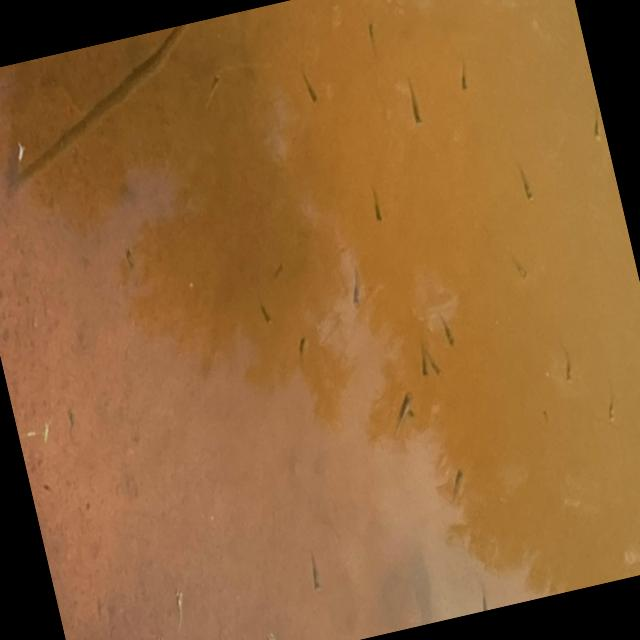Sivrisinek Baligi: (373, 389, 428, 446), (106, 236, 154, 282), (158, 582, 199, 630), (354, 13, 389, 68), (578, 81, 608, 145), (296, 545, 331, 598), (440, 452, 472, 508), (448, 48, 479, 98), (360, 177, 390, 225), (293, 59, 322, 108), (511, 156, 538, 207), (401, 72, 426, 127), (598, 383, 626, 428), (198, 66, 226, 108), (433, 310, 460, 352), (267, 248, 292, 285), (344, 264, 366, 306), (508, 246, 532, 284), (256, 622, 306, 640), (291, 333, 316, 366), (556, 344, 576, 384), (254, 296, 275, 330), (147, 626, 184, 640)
